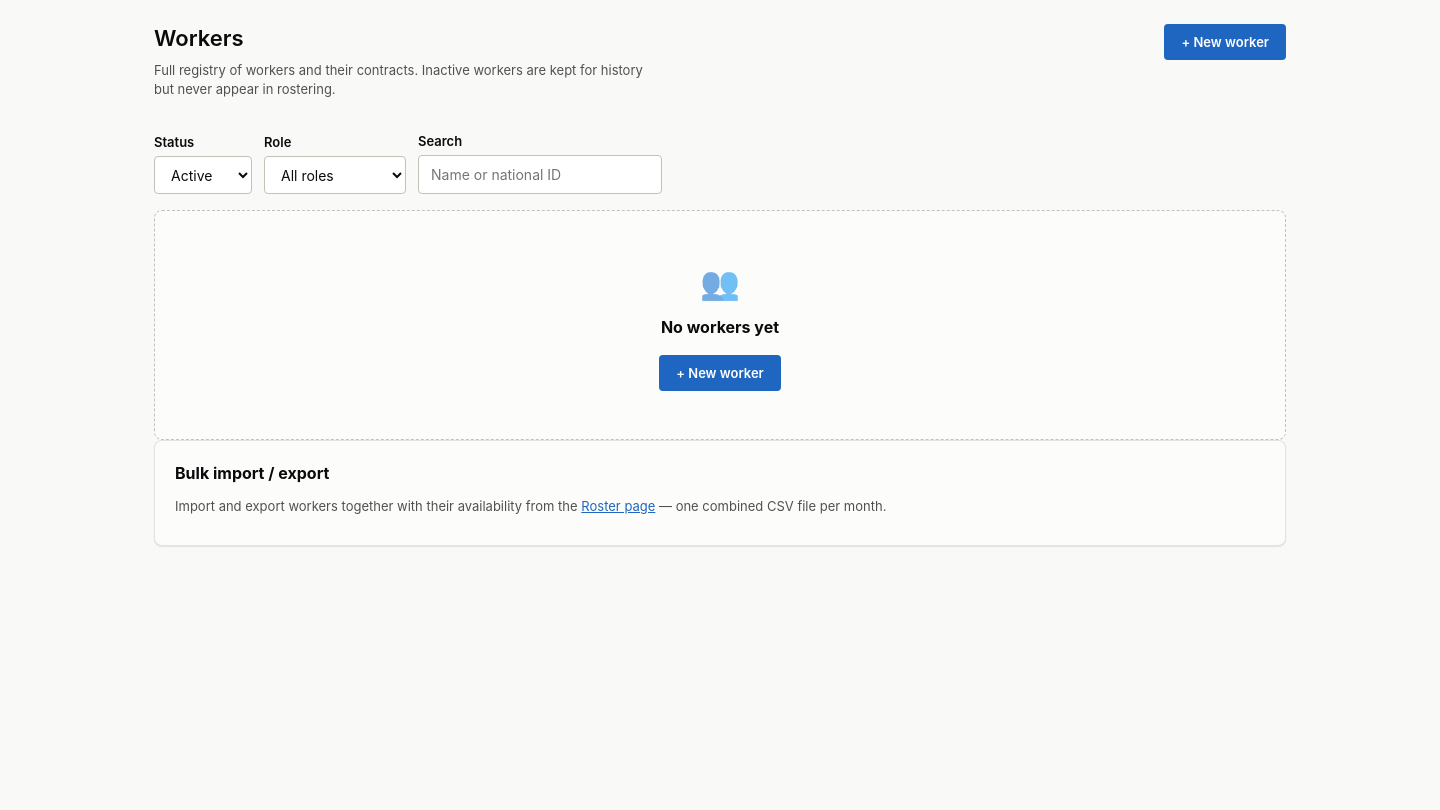
WorkersPage › shows an inline duplicate-national-ID error (409) when creating a worker, without closing the form
The width and height of the screenshot is (1440, 810).
Click the 1st button "+ New worker".
click(1225, 42)  # box [1164,24,1286,60]
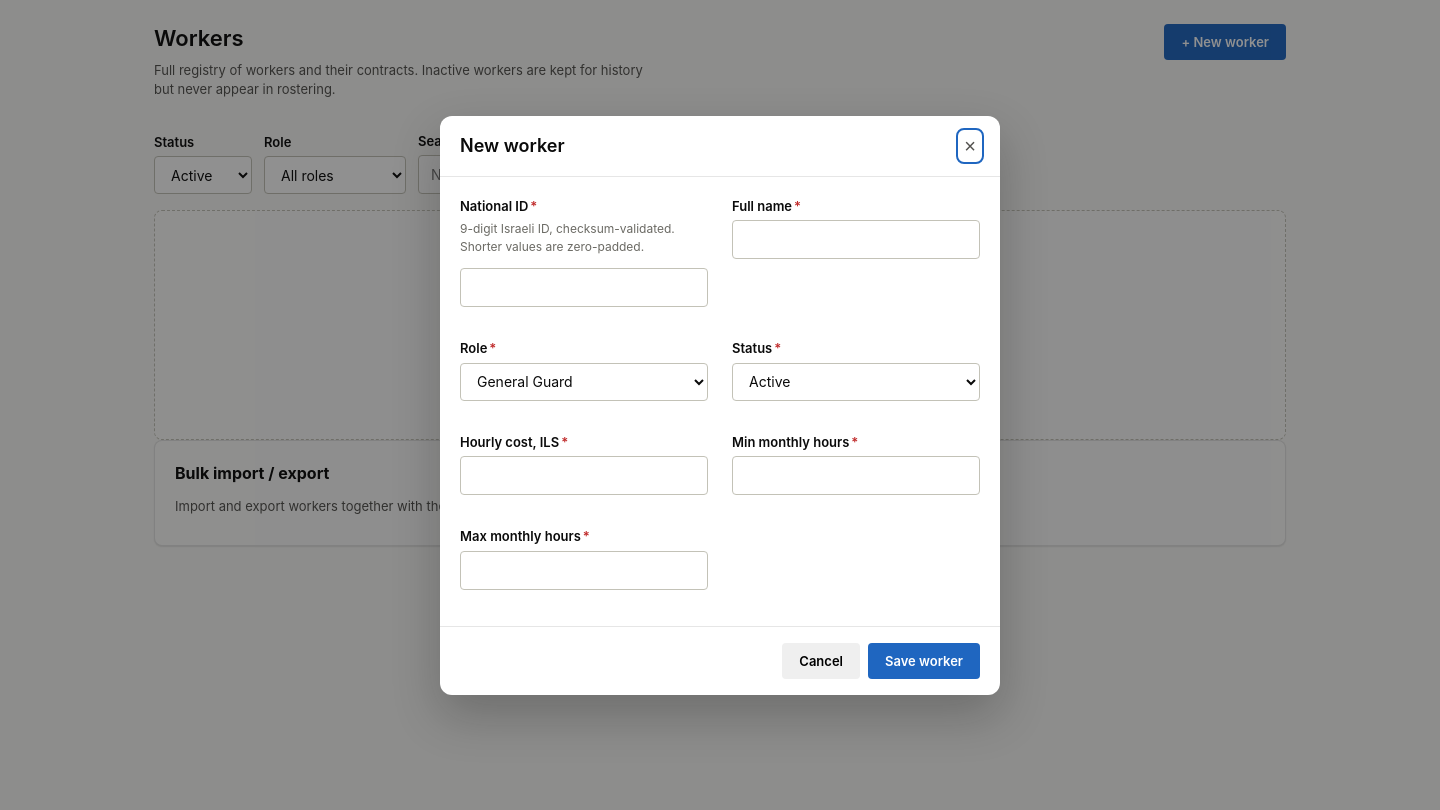
Type "123456782" into the field labelled "National ID".
click(584, 288); type("123456782")  # box [460,268,708,307]
Type "Omer Cohen" into the field labelled "Full name".
click(856, 240); type("Omer Cohen")  # box [732,220,980,259]
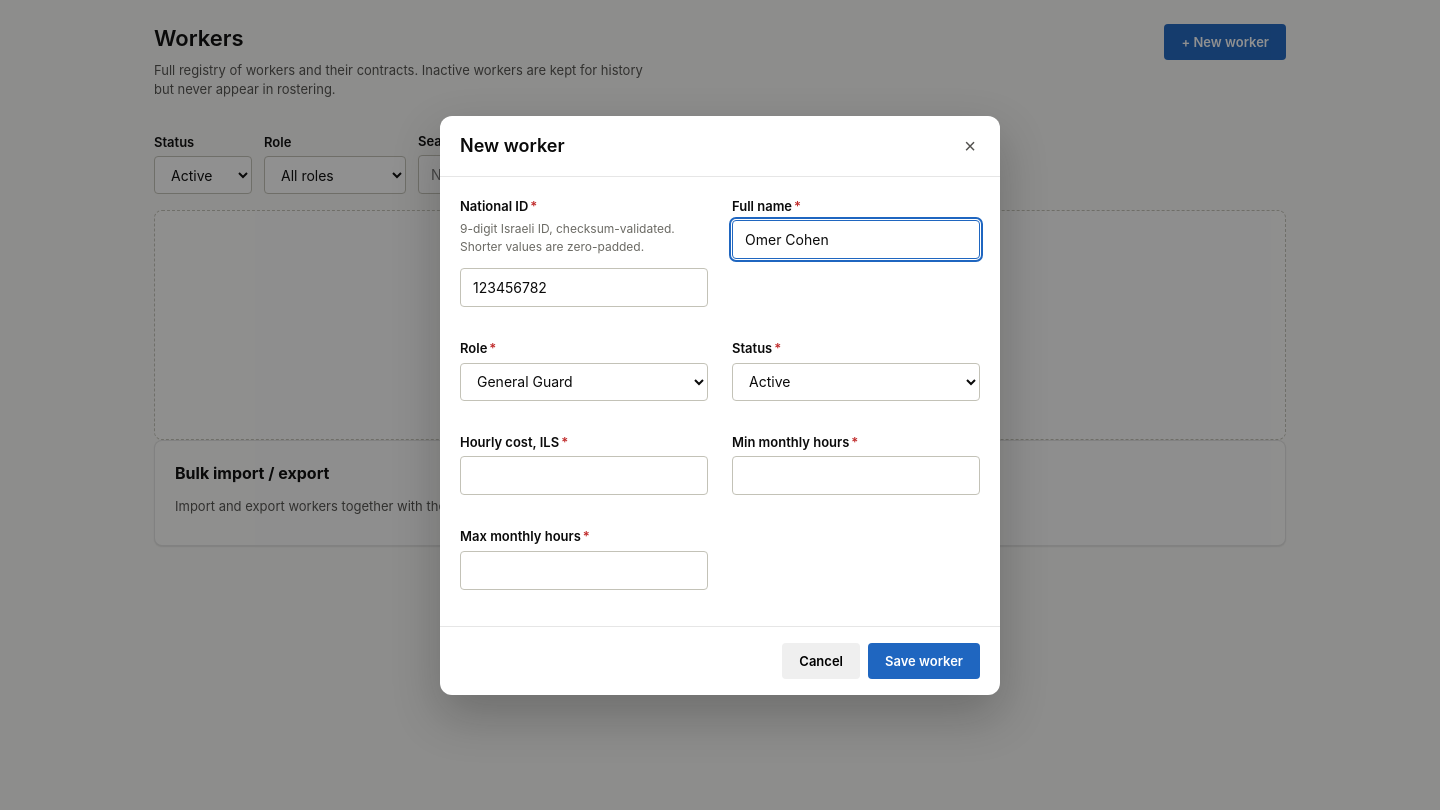
Type "50" into the number field labelled "Hourly cost, ILS".
click(584, 476); type("50")  # box [460,456,708,495]
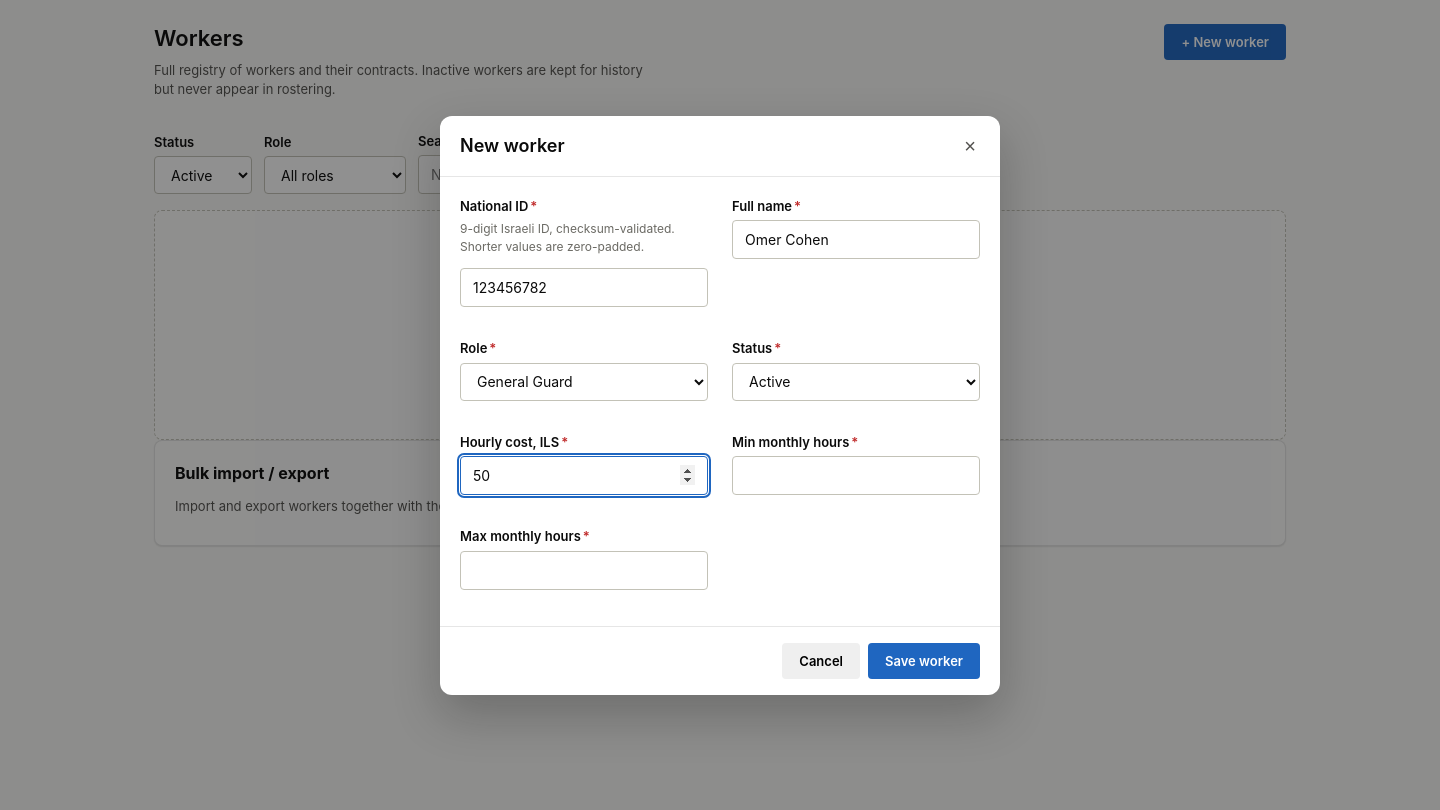
Type "100" into the number field labelled "Min monthly hours".
click(856, 476); type("100")  # box [732,456,980,495]
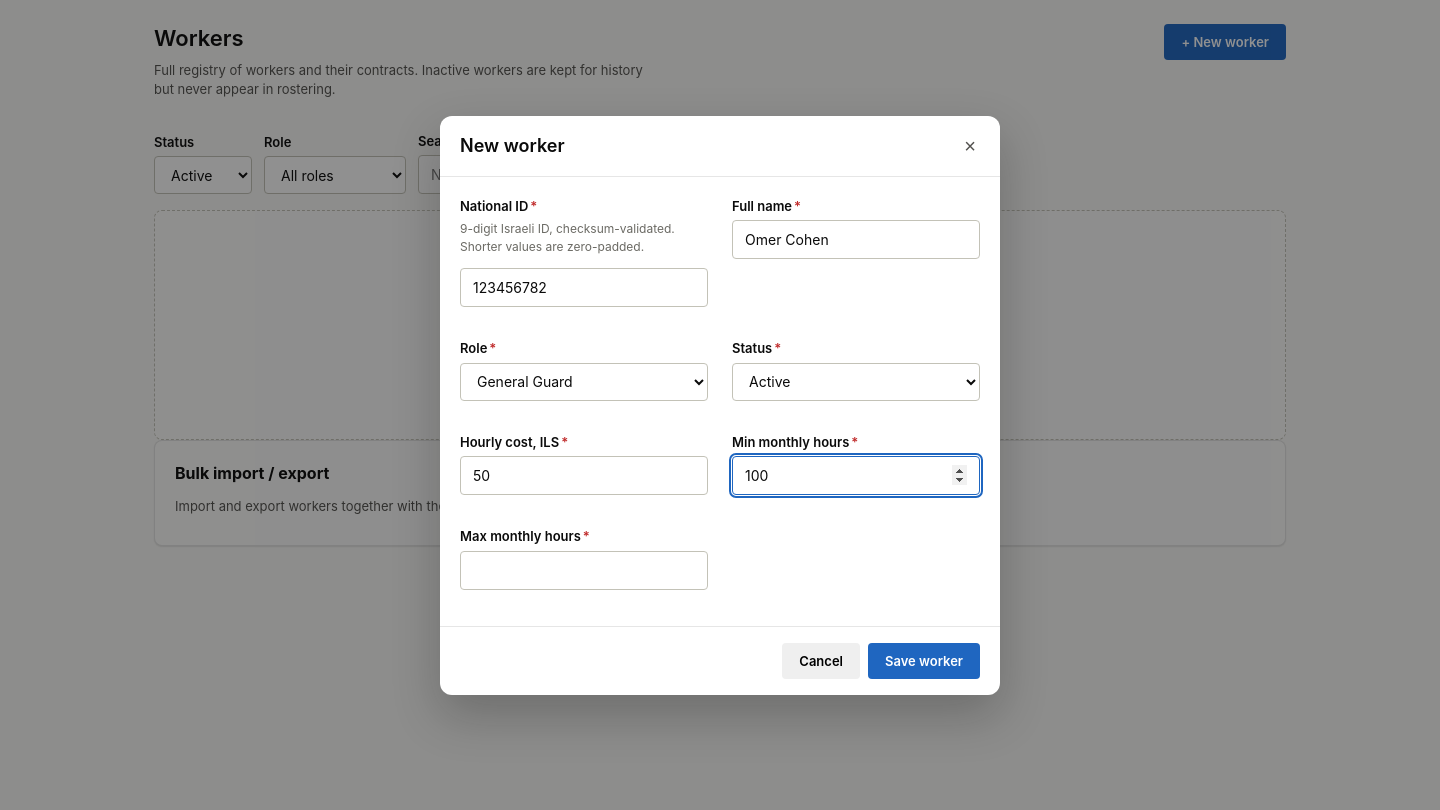
Type "180" into the number field labelled "Max monthly hours".
click(584, 570); type("180")  # box [460,550,708,590]
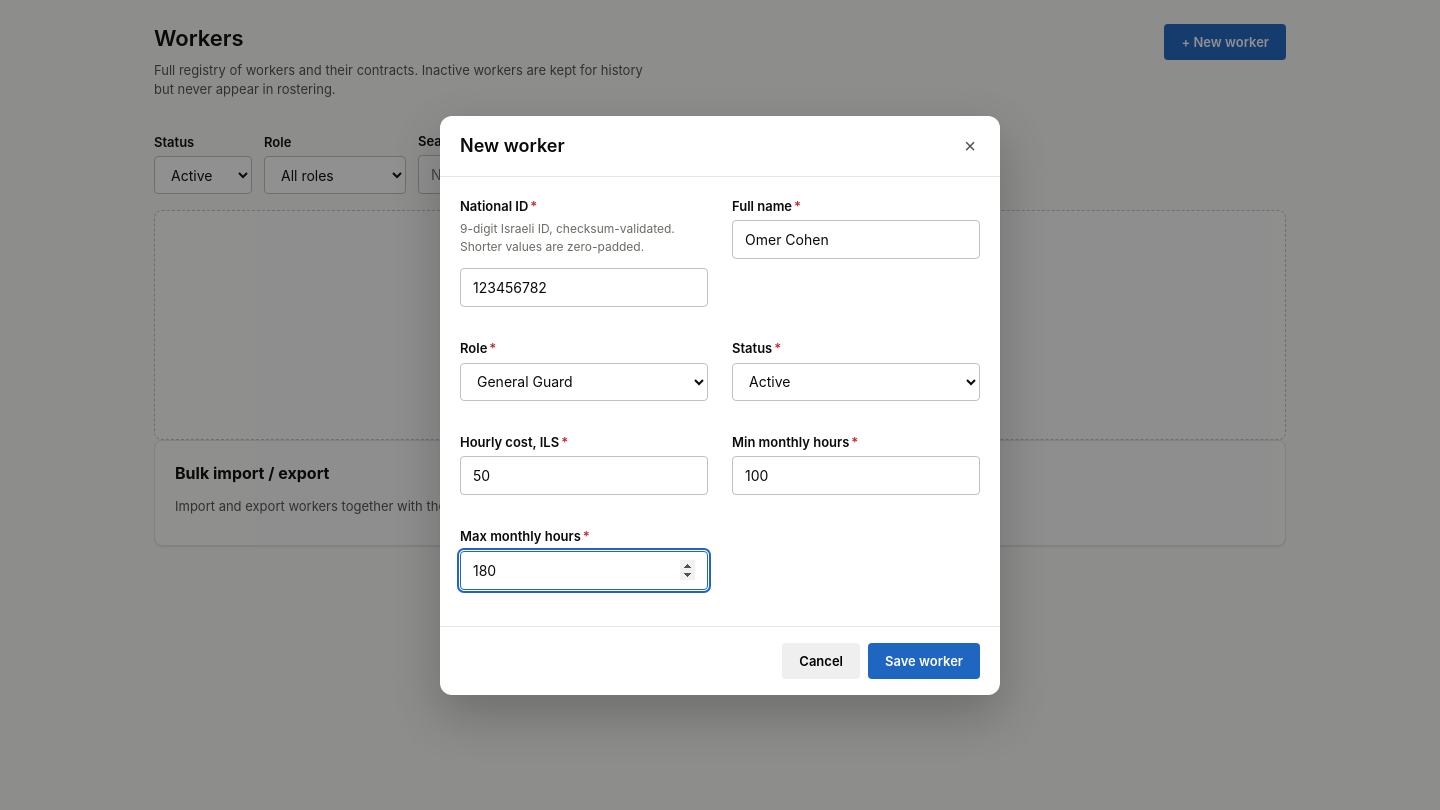
Click the button "Save worker".
click(924, 660)  # box [868,642,980,678]
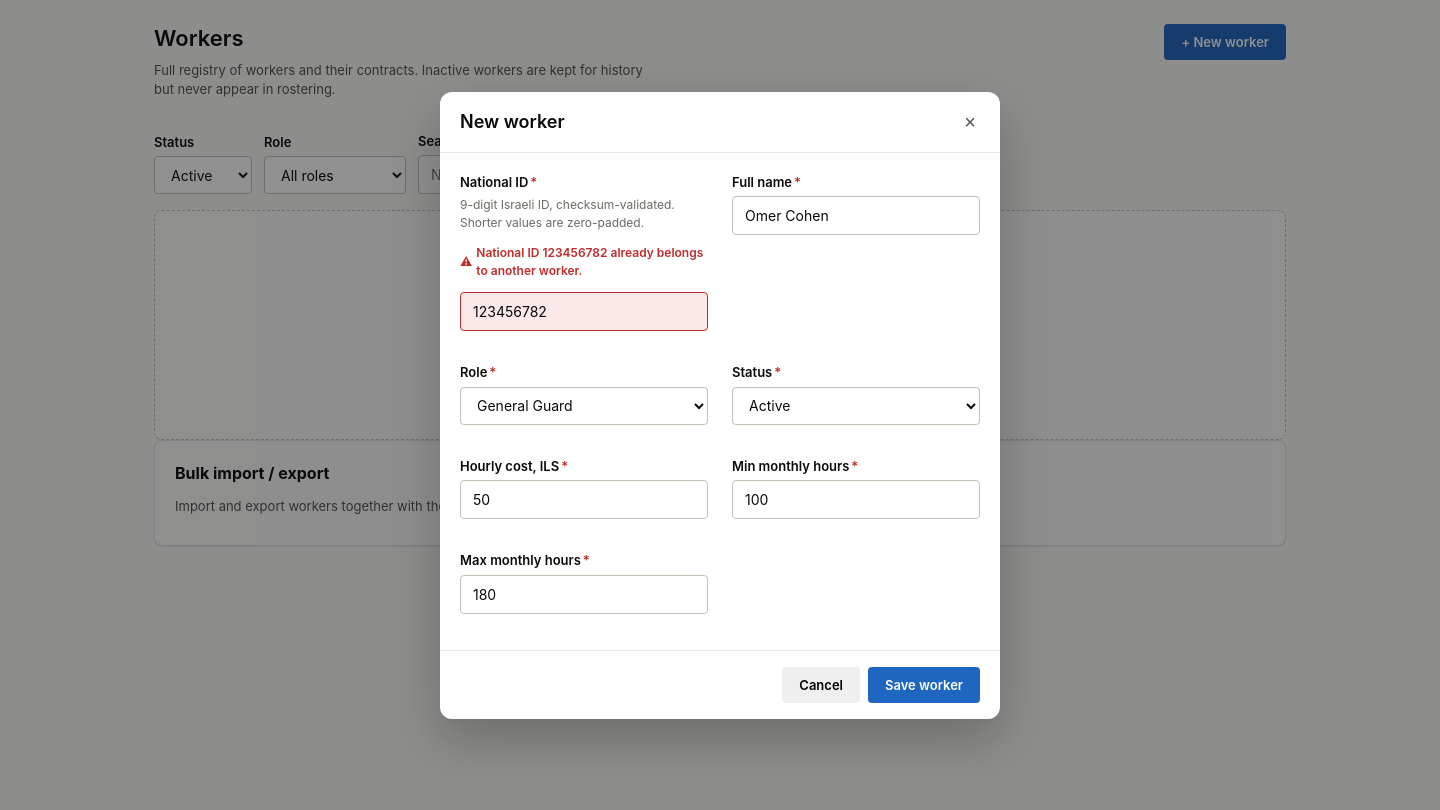
Expected: the dialog "New worker" is shown, [440,92,1000,718]
Expected: the text "National ID 123456782 already belongs to another worker." is shown, [460,244,708,280]
